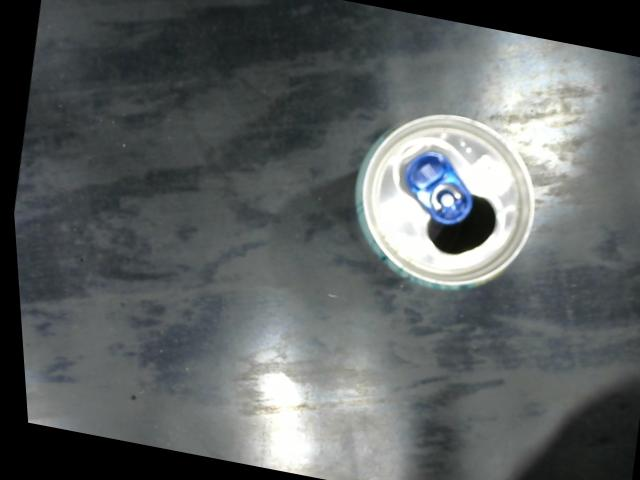can: (329, 96, 552, 308)
